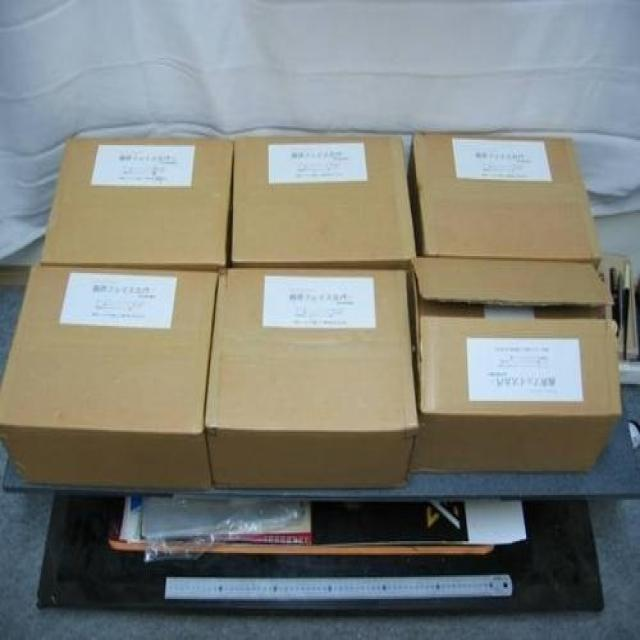box: (0, 263, 218, 490), (205, 270, 420, 488), (410, 258, 623, 476), (407, 133, 604, 270), (40, 138, 234, 266), (232, 135, 416, 268)
